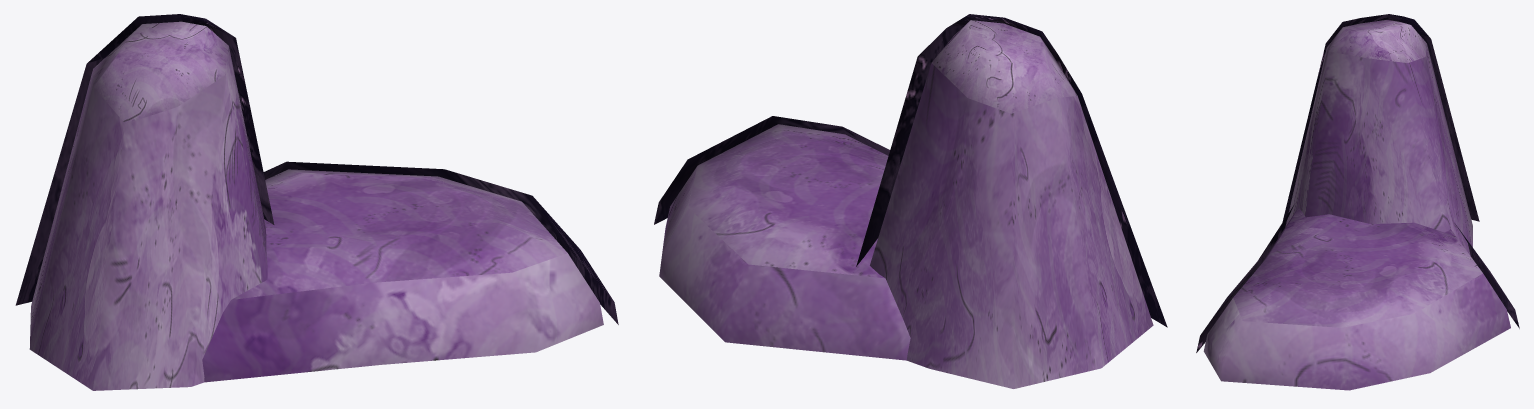
The model's file is Rock.glb.
3 renders of one model, left to right at view 1: azimuth 30°, elevation 25°; view 2: azimuth 150°, elevation 25°; view 3: azimuth 270°, elevation 25°, orthographic. The views are drawn at different scales.
Parts seen in each view (by area): view 1: Rock_01_Art; view 2: Rock_01_Art; view 3: Rock_01_Art.
Boxes of the visible parts, x1,y1,x2,y2 form: Rock_01_Art: [15, 14, 618, 390]; Rock_01_Art: [654, 14, 1167, 388]; Rock_01_Art: [1196, 14, 1519, 390].
Size of what is drawn, in the model's own units: 4.24 by 2.47 by 3.03.
2 materials, 2 textured.
